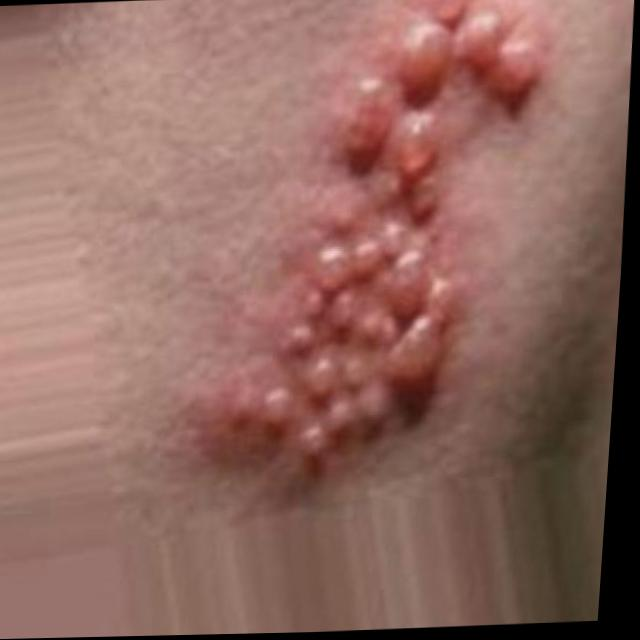Shingles: (196, 0, 552, 487)
